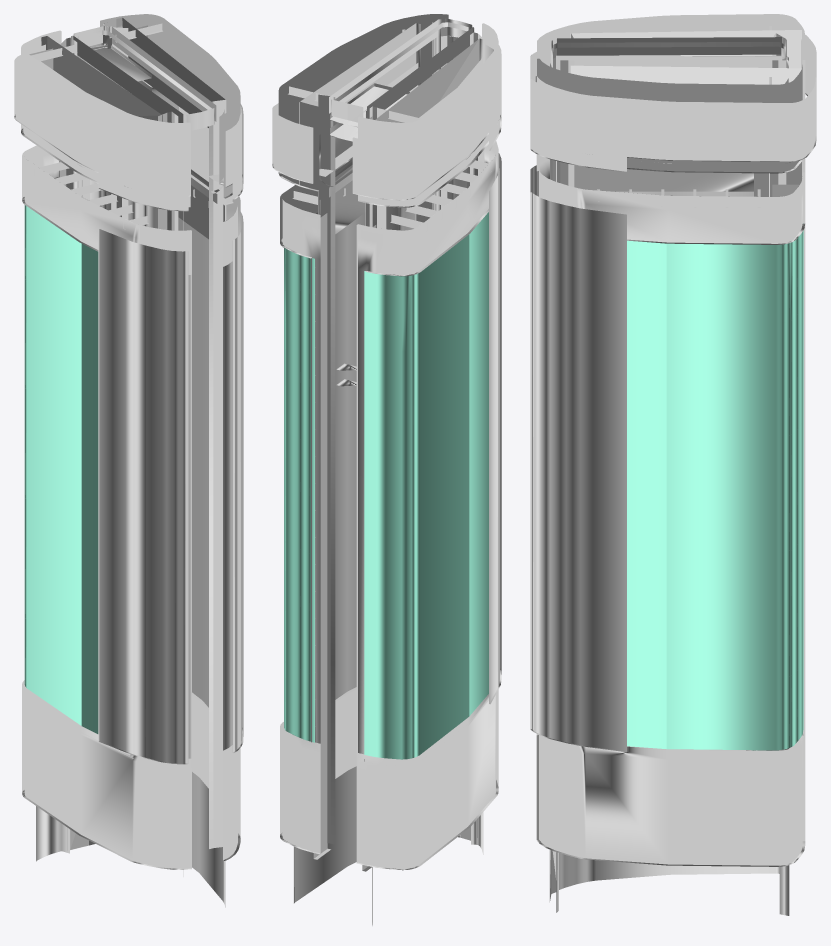
Rendered from building_700m_001_a.glb.
3 views of the same model, side by side, from view 1: azimuth 30°, elevation 25°; view 2: azimuth 150°, elevation 25°; view 3: azimuth 270°, elevation 25° (orthographic). The views are drawn at different scales.
Bounding box in the file's own units: 134 × 729 × 221.
